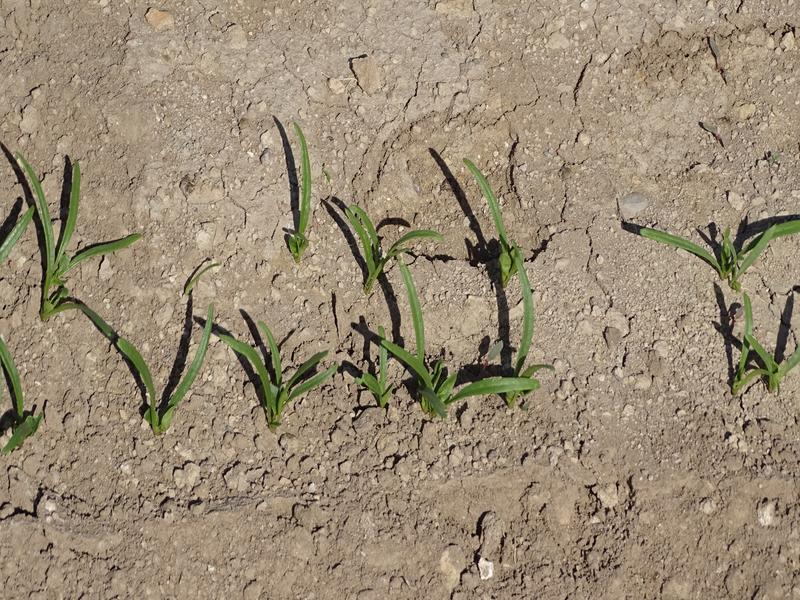Espinaca: (221, 160, 540, 430), (16, 147, 138, 316), (109, 301, 216, 442), (638, 201, 800, 276), (732, 293, 800, 396), (1, 343, 49, 446)
